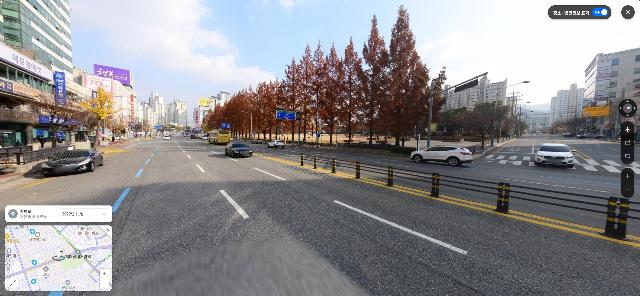ginkgo: (82, 86, 120, 147)
other: (202, 4, 446, 147), (31, 75, 93, 150), (467, 100, 512, 150)
